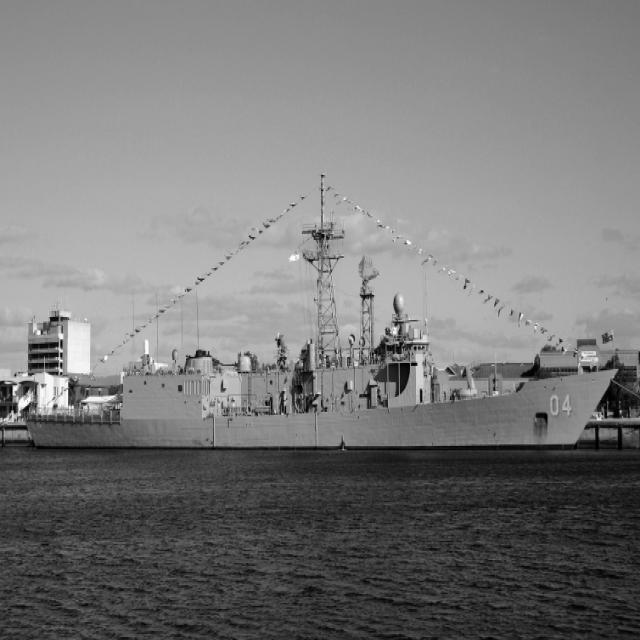Fragata: (22, 162, 623, 450)
